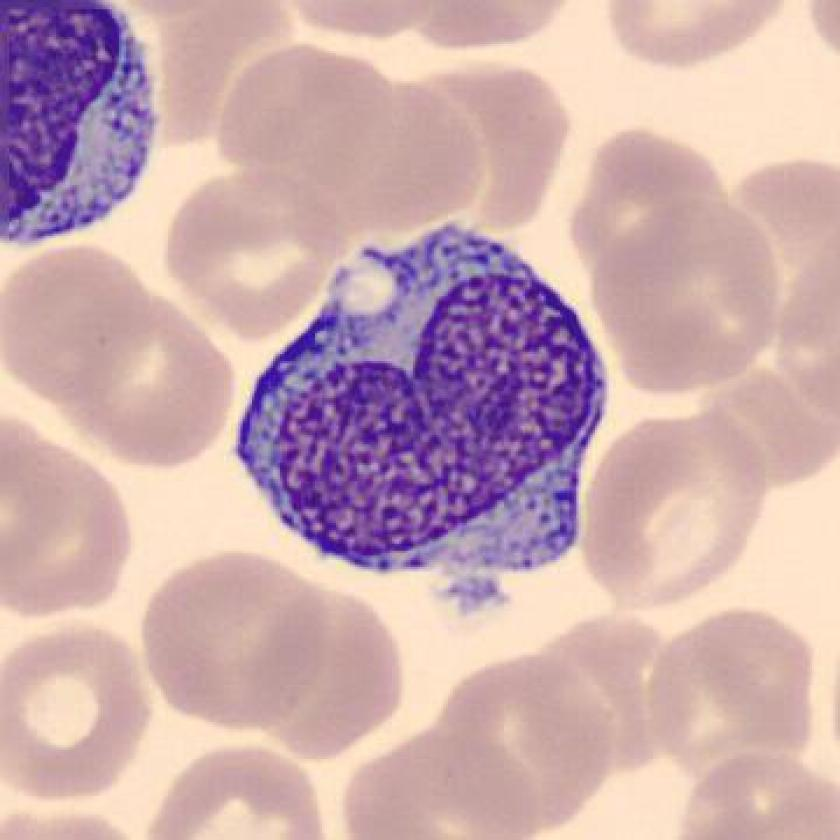monocyte: (216, 207, 636, 610)
